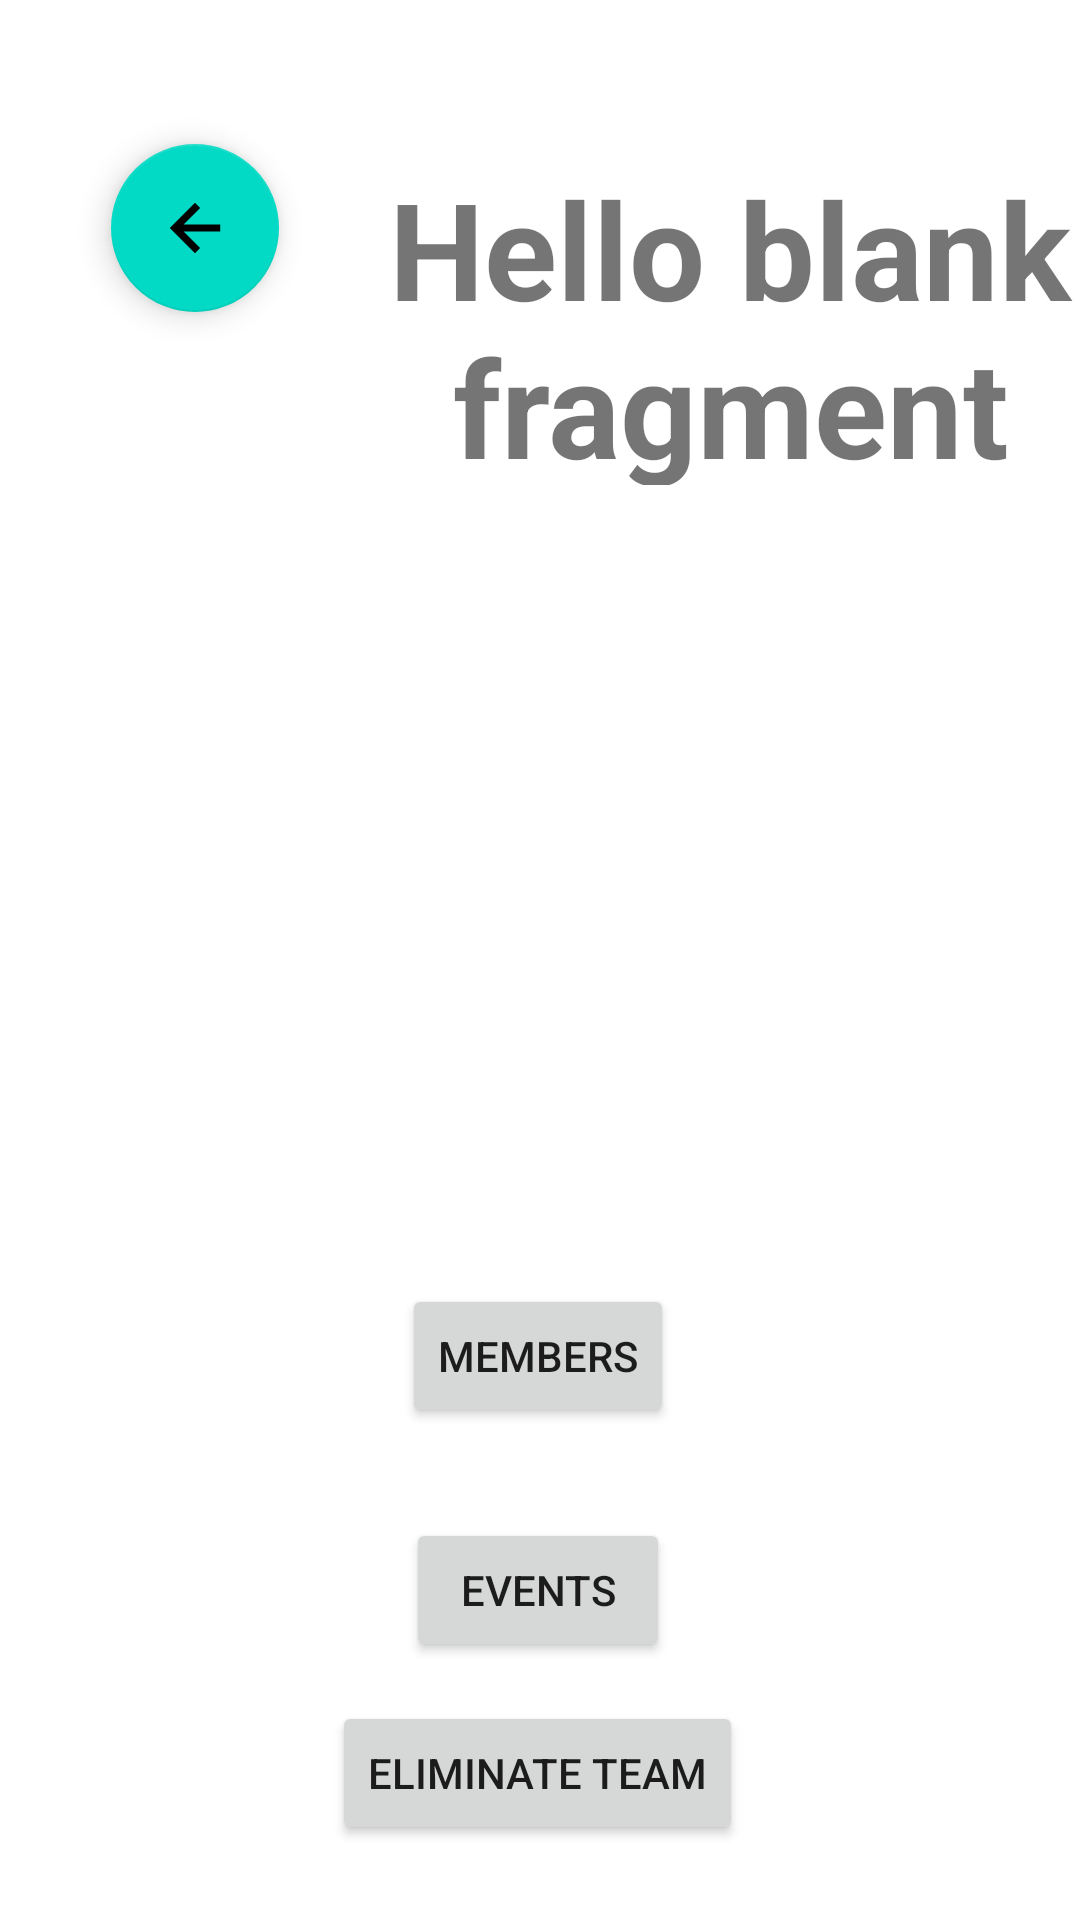

Locate icon controls on the screen. Image size 1080w x 1920h, boxes as box=[x1, y1, x2, y2].
arrow back: box=[111, 144, 279, 312]
